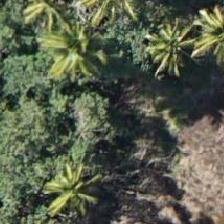coconut_tree: (27, 6, 117, 96), (127, 0, 217, 88), (31, 140, 121, 223)
